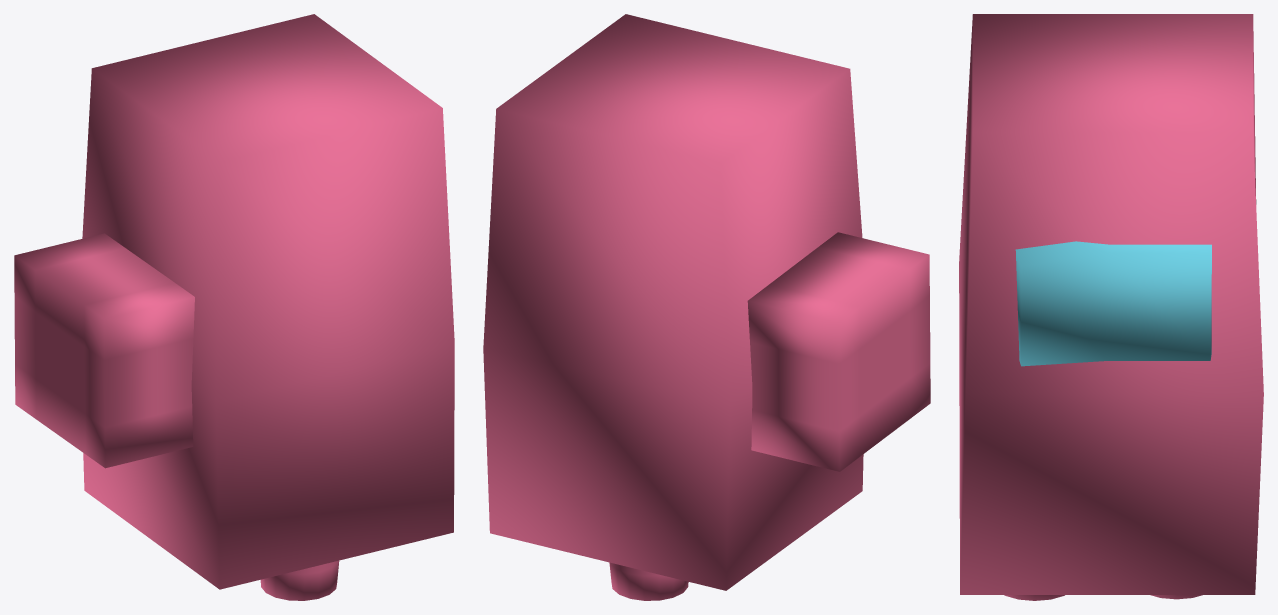
File: amongus maria 1 1-final.glb
3 renders of one model, left to right at view 1: azimuth 30°, elevation 25°; view 2: azimuth 150°, elevation 25°; view 3: azimuth 270°, elevation 25°, orthographic. The views are drawn at different scales.
Visible parts, largest first — view 1: Cube, Cube.002, Cylinder; view 2: Cube, Cube.002, Cylinder.001; view 3: Cube, Cube.001.
Part boxes in pixels (box(x1,y1,x2,y2)): Cube: box(82, 14, 454, 589); Cube.002: box(14, 233, 194, 468); Cylinder: box(260, 560, 339, 600); Cube: box(483, 14, 863, 590); Cube.002: box(747, 232, 930, 471); Cylinder.001: box(609, 562, 688, 600); Cube: box(959, 14, 1263, 594); Cube.001: box(1015, 241, 1211, 366).
Bounding box in the file's own units: 2.95 × 3.83 × 2.07.
